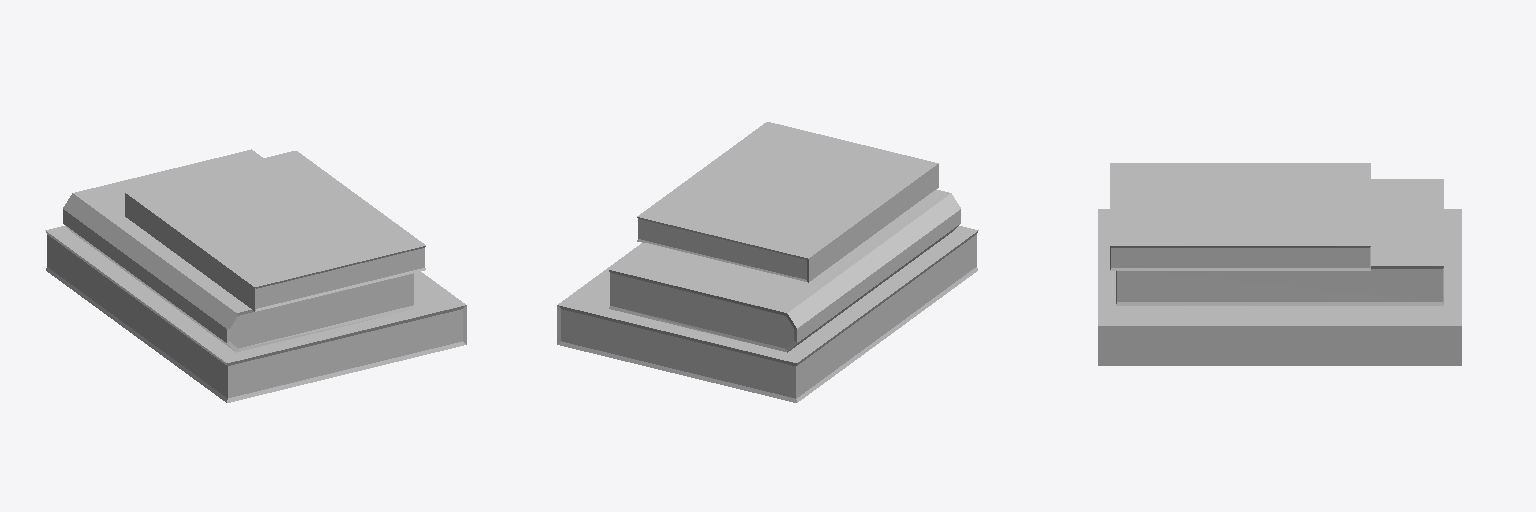
File: books03.obj
3 renders of one model, left to right at view 1: azimuth 30°, elevation 25°; view 2: azimuth 150°, elevation 25°; view 3: azimuth 270°, elevation 25°, orthographic.
Visible parts, largest first — view 1: mesh; view 2: mesh; view 3: mesh.
Part boxes in pixels (x1,y1,x2,y2): mesh: (45, 149, 466, 402); mesh: (557, 122, 978, 402); mesh: (1098, 163, 1461, 365).
Bounding box in the file's own units: 19.18 × 7.88 × 25.2.